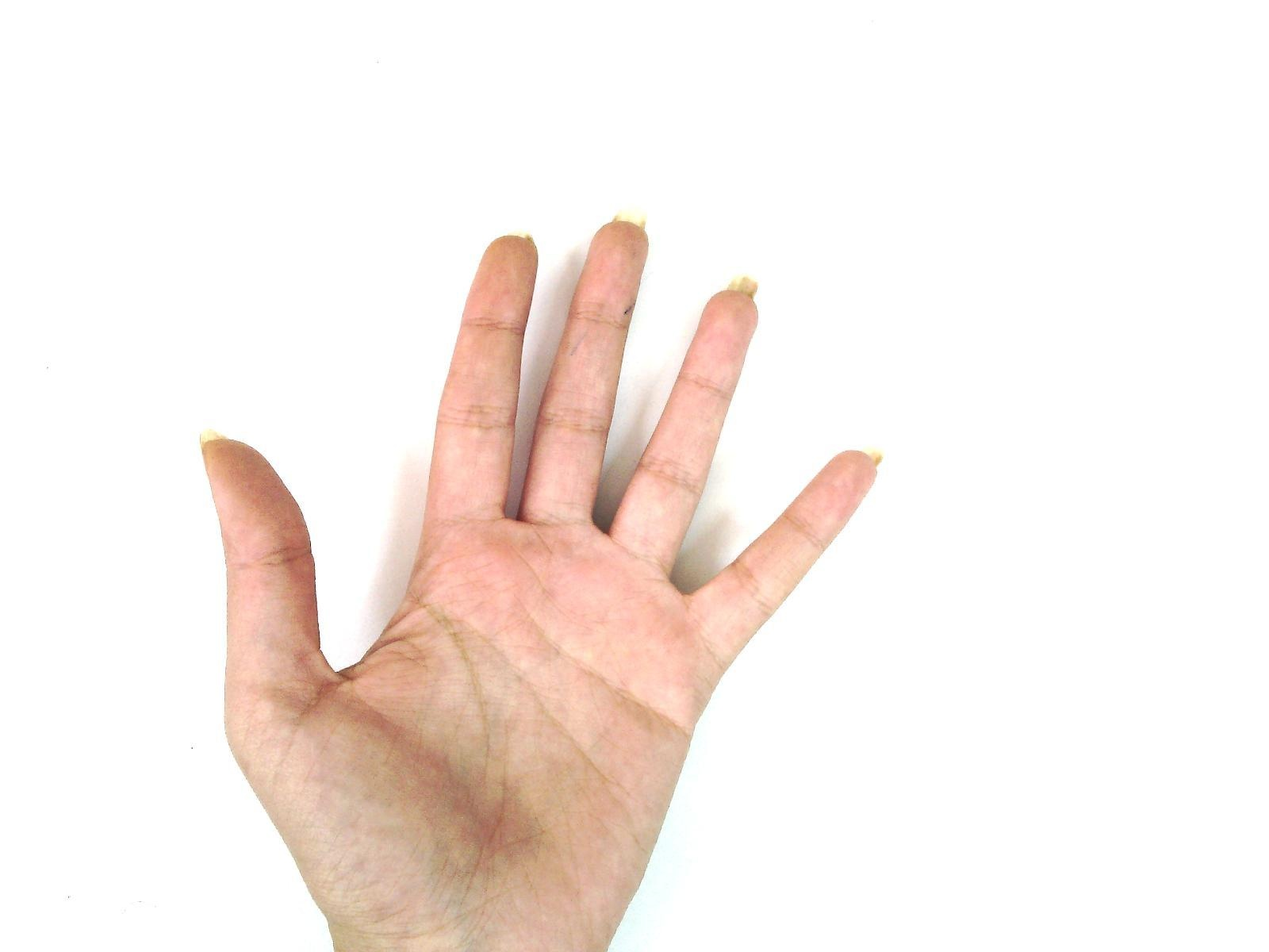open_palm: (198, 215, 884, 951)
